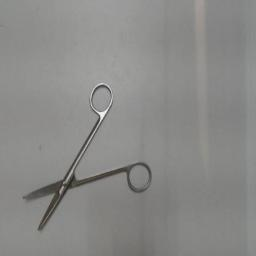Curved Mayo Scissors: (14, 76, 156, 232)
